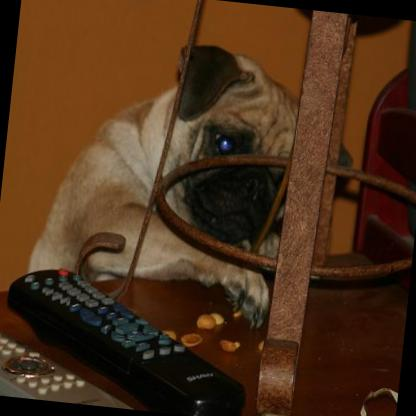pug: (21, 25, 361, 343)
